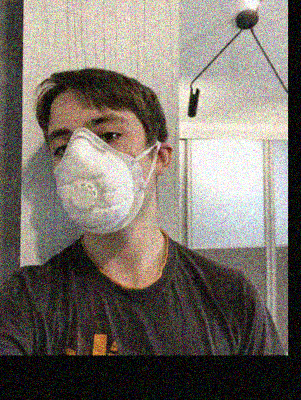with_mask: (47, 109, 148, 233)
